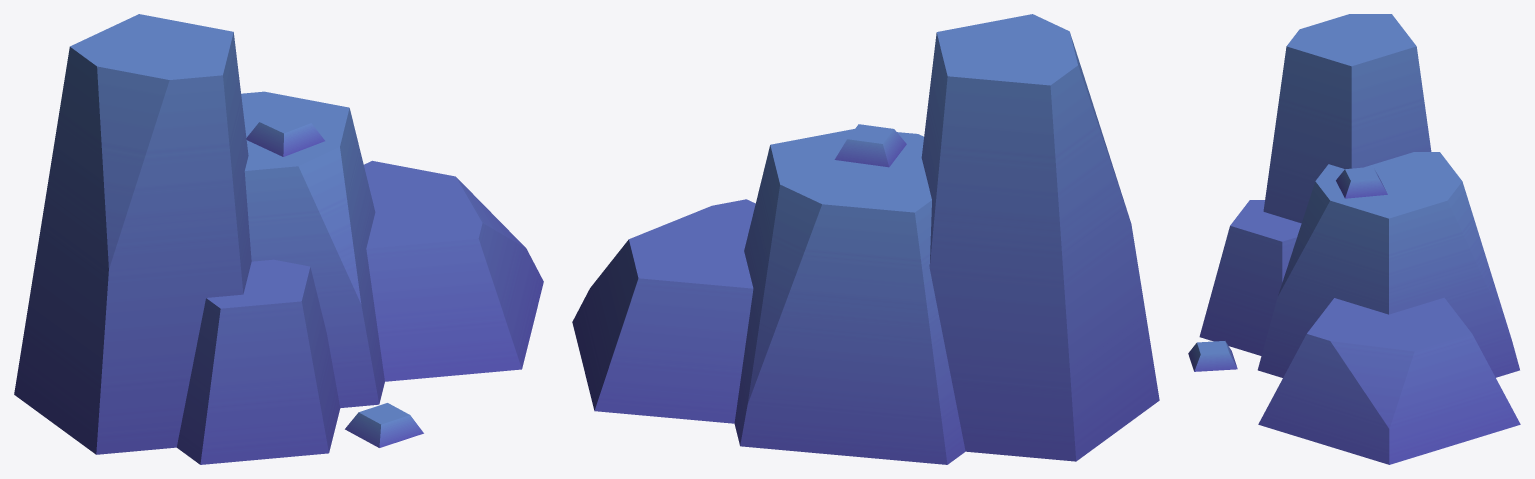
Rendered from pedra 3 azul.glb.
3 views of the same model, side by side, from view 1: azimuth 30°, elevation 25°; view 2: azimuth 150°, elevation 25°; view 3: azimuth 270°, elevation 25° (orthographic). The views are drawn at different scales.
Parts seen in each view (by area): view 1: rock-c; view 2: rock-c; view 3: rock-c.
Boxes of the visible parts, box(x1,y1,x2,y2) form: rock-c: box(14, 14, 543, 464); rock-c: box(572, 14, 1159, 464); rock-c: box(1188, 14, 1520, 464).
Size of the model in its own units: 0.7837 by 0.51 by 0.5659.
Materials: 1 (1 with a texture image).
